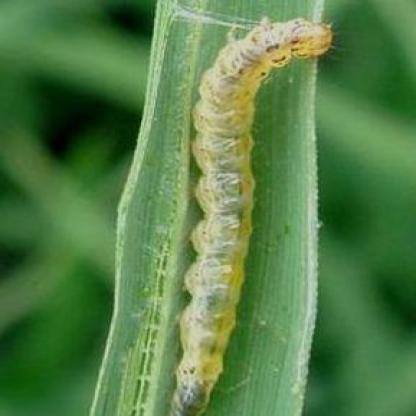leaf-folder: (126, 15, 346, 408)
